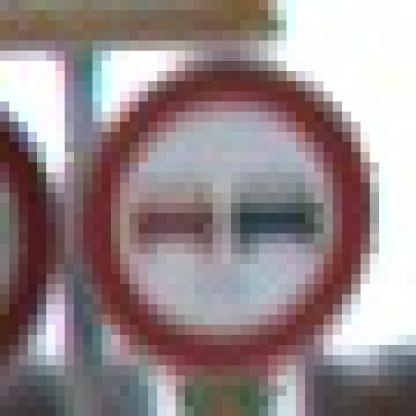No Overtaking: (57, 62, 362, 366)
